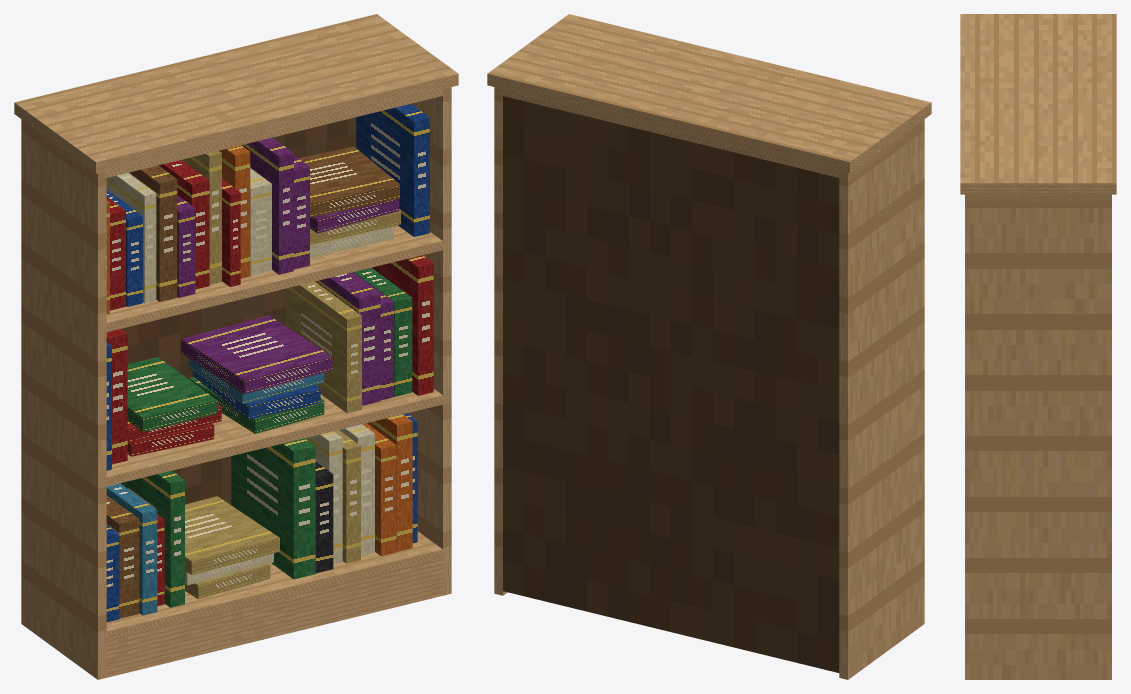
File: PSX_ShelvesPropsNormalItemsBookcase_Short.glb
3 renders of one model, left to right at view 1: azimuth 30°, elevation 25°; view 2: azimuth 150°, elevation 25°; view 3: azimuth 270°, elevation 25°, orthographic. The views are drawn at different scales.
Parts seen in each view (by area): view 1: Bookcase_Short; view 2: Bookcase_Short; view 3: Bookcase_Short.
Boxes of the visible parts, x1,y1,x2,y2 form: Bookcase_Short: (14,14,458,679); Bookcase_Short: (487,14,931,679); Bookcase_Short: (960,14,1116,679).
Bounding box in the file's own units: 0.82 × 1.12 × 0.32.
Materials: 12 (12 with a texture image).
